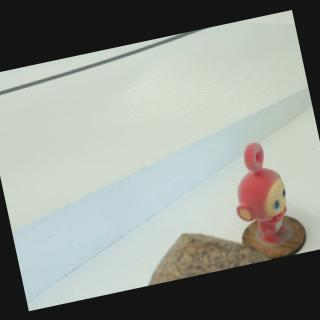teletubby: (236, 143, 286, 243)
